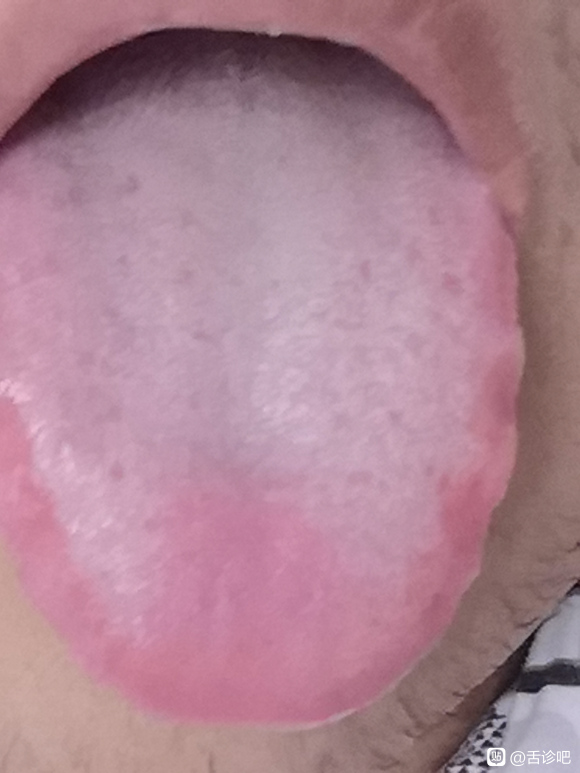baitaishe: (1, 28, 524, 726)
